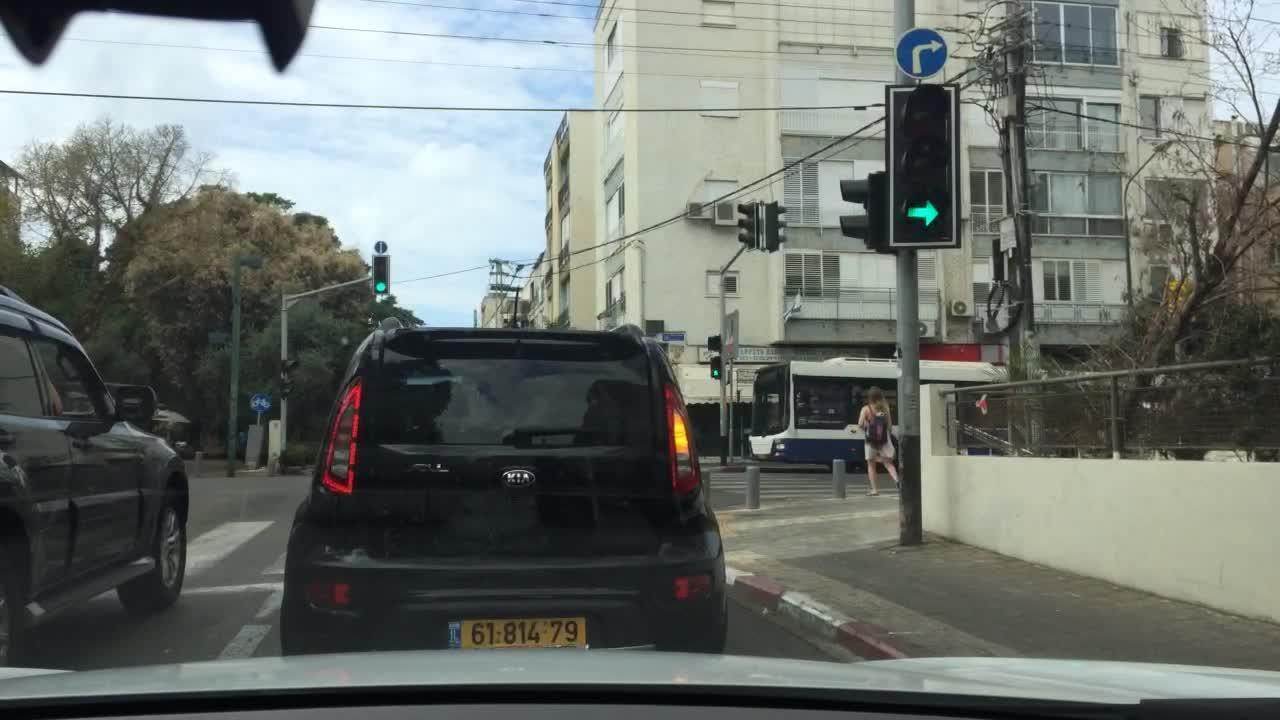kia: (482, 455, 545, 500)
